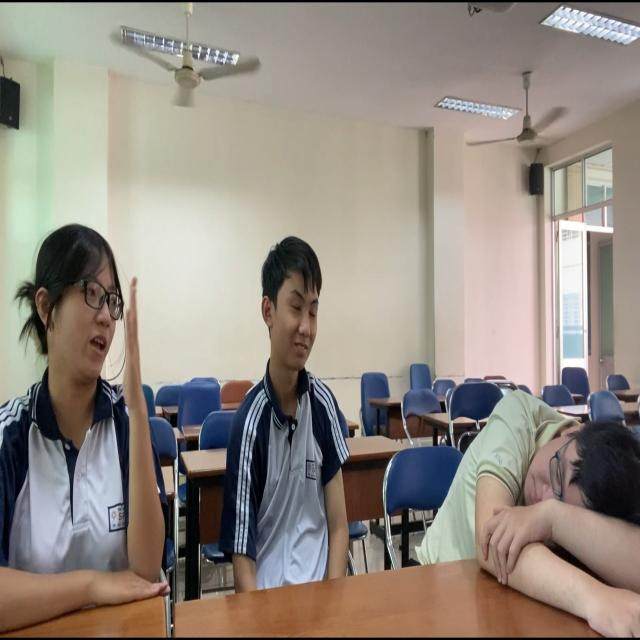raise_hand: (1, 175, 167, 634)
sleep: (433, 377, 640, 640)
